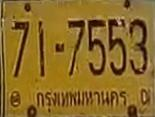1: (38, 21, 45, 79)
3: (128, 18, 147, 74)
5: (88, 19, 107, 76), (109, 19, 127, 76)
7: (10, 20, 30, 77), (67, 19, 86, 76)
BKK: (32, 88, 128, 113)
